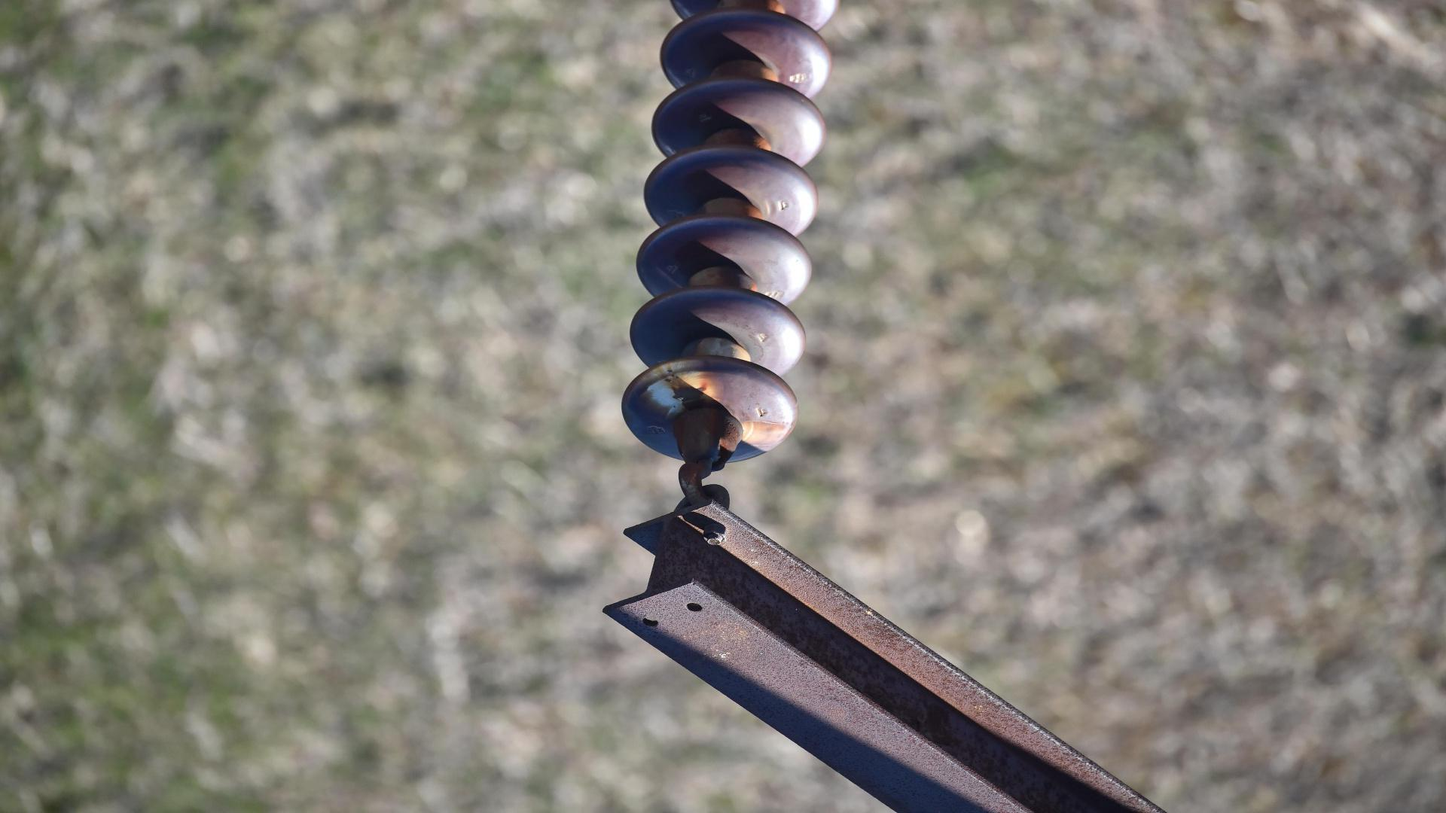insulator: (618, 1, 850, 467)
insulator_flashover: (642, 357, 719, 411), (739, 419, 790, 449)
